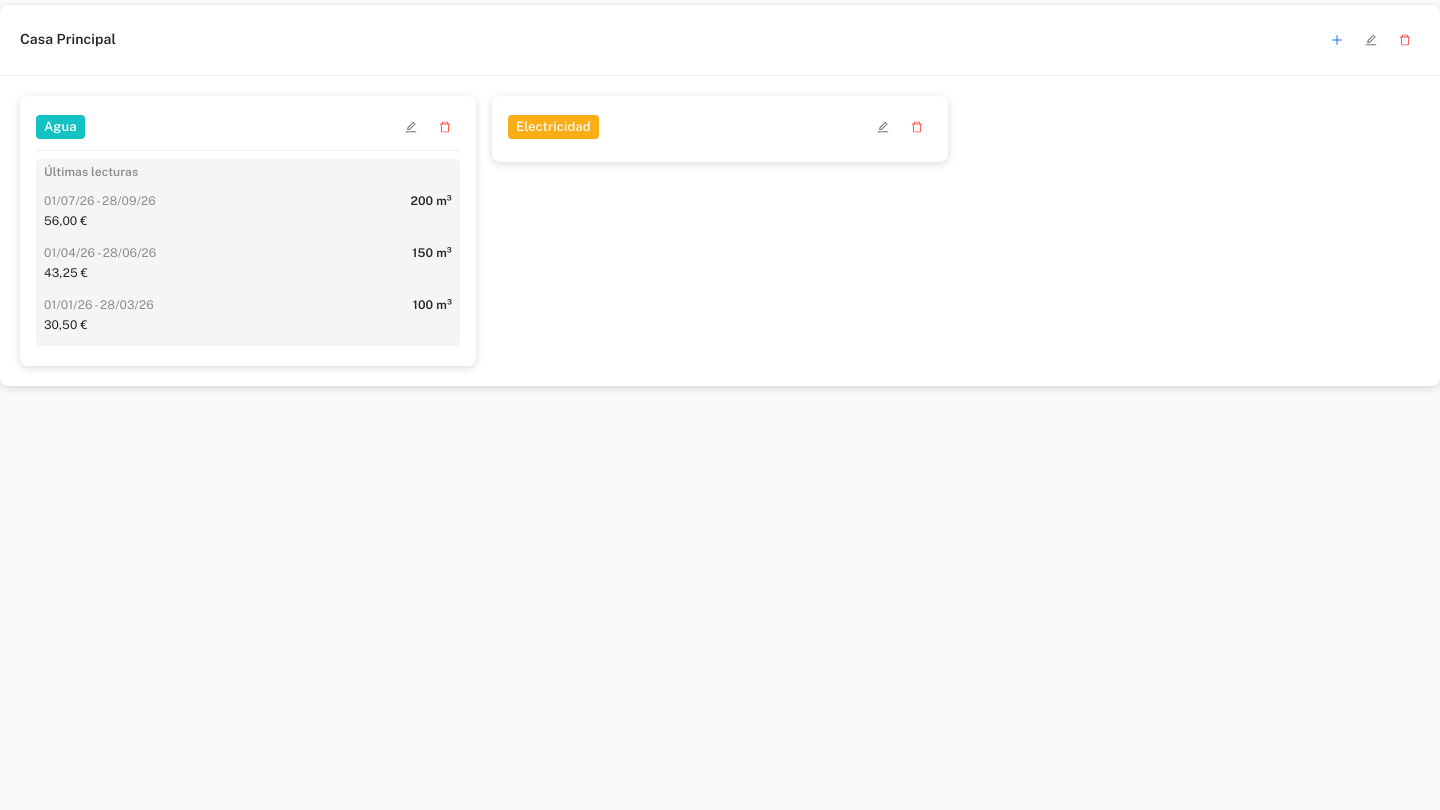
Scenario: Flow: property CRUD › edit property → name is updated in the list
The image size is (1440, 810).
Expected: the text "Casa Principal" is shown, [20,30,116,46]
Click the button named "editar inmueble". click: (1371, 40)
box: [1356,24,1386,54]
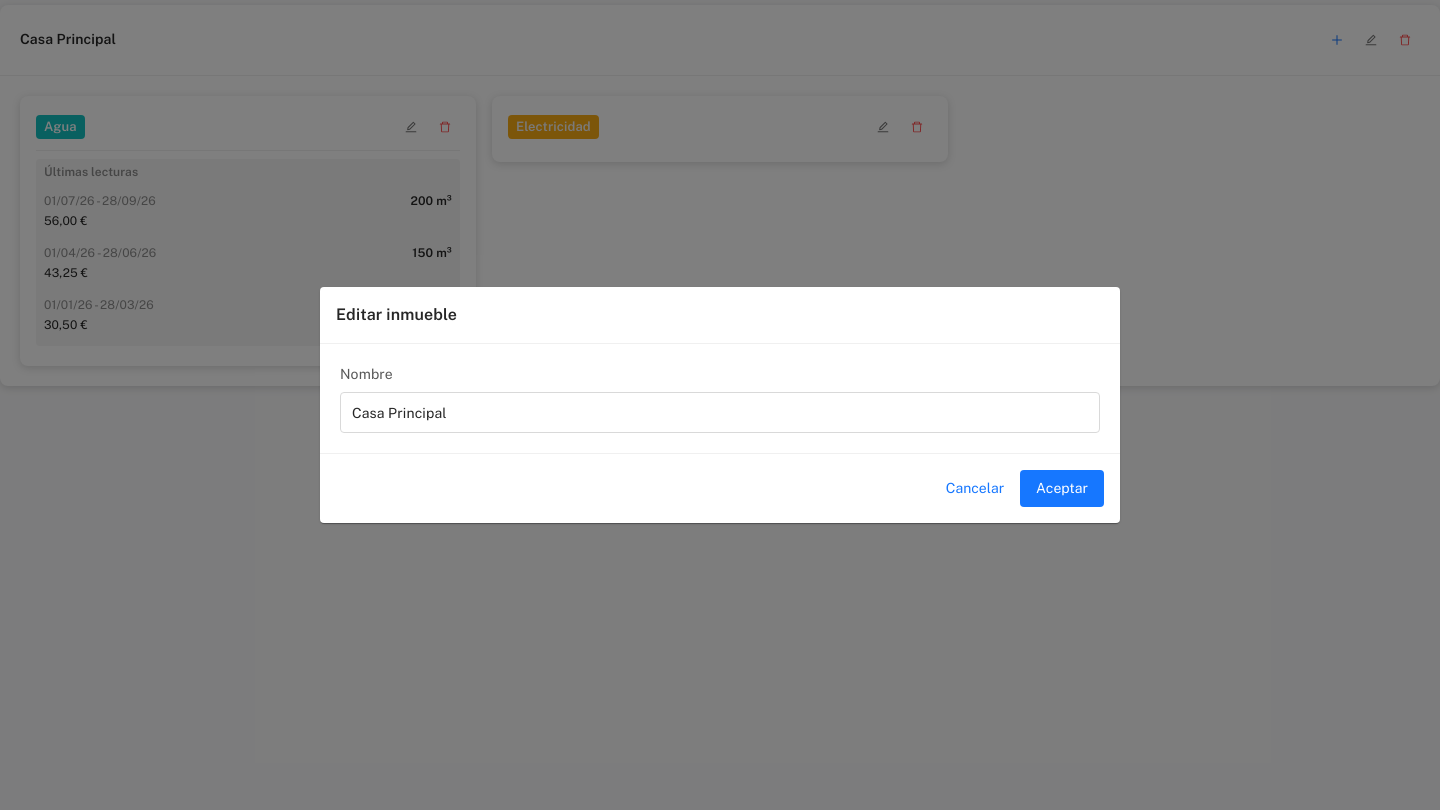
Now the text "Editar inmueble" is shown, box [336,305,457,324]
Replace the text in the field named "name" with "Casa Renovada". click: (720, 413)
box: [340,392,1100,433]
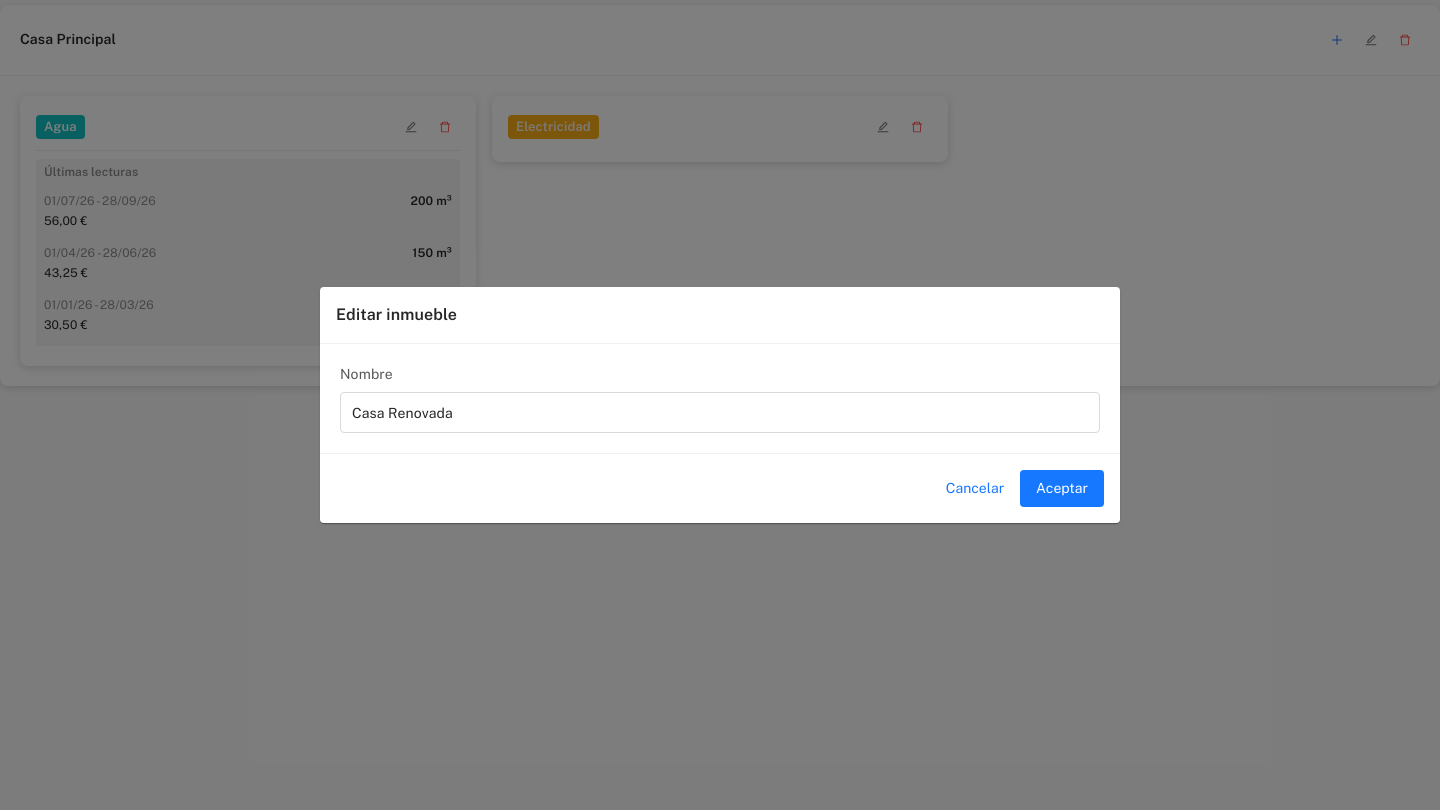
Submit the form, box [320,287,1120,523]
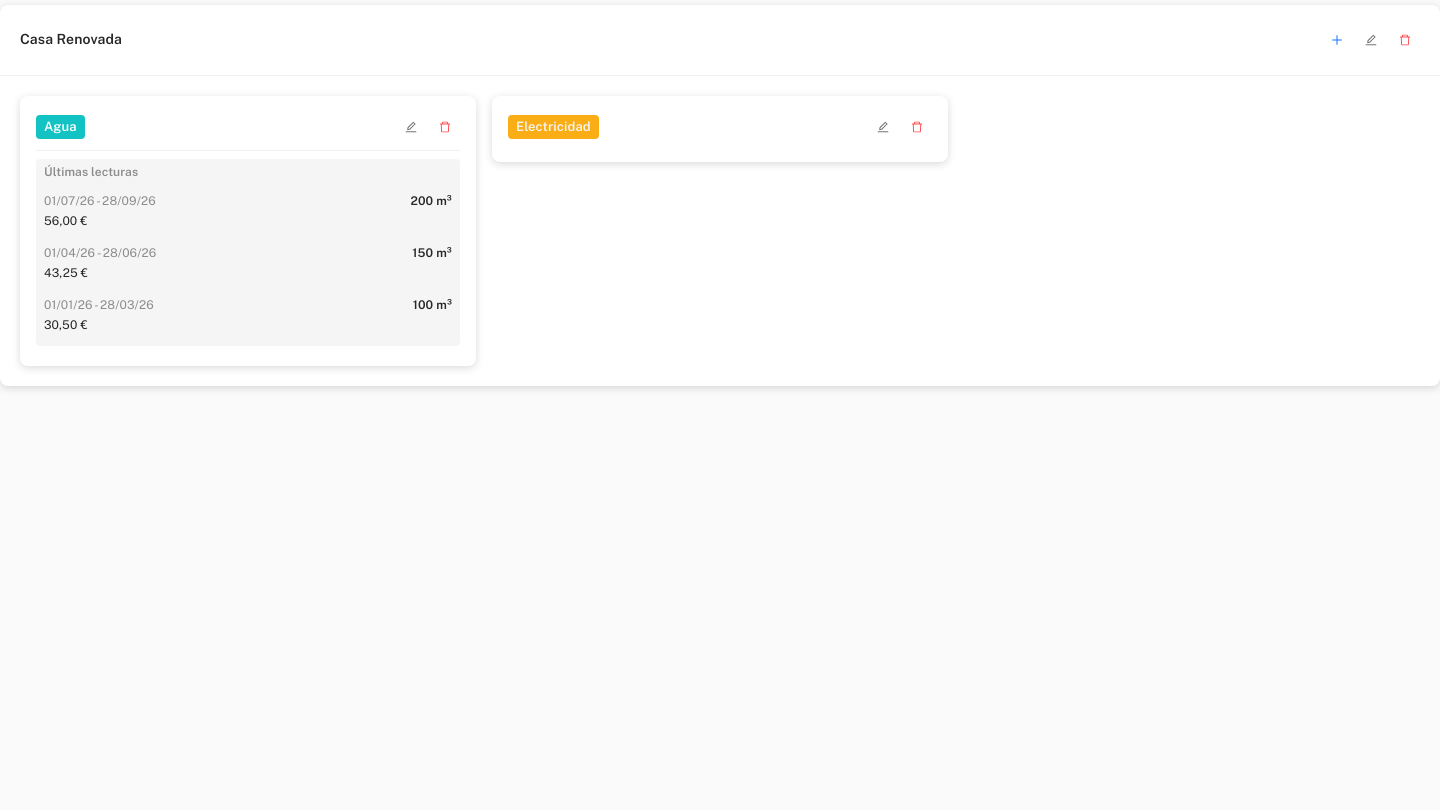
Now the text "Casa Renovada" is shown, box [20,30,122,46]
